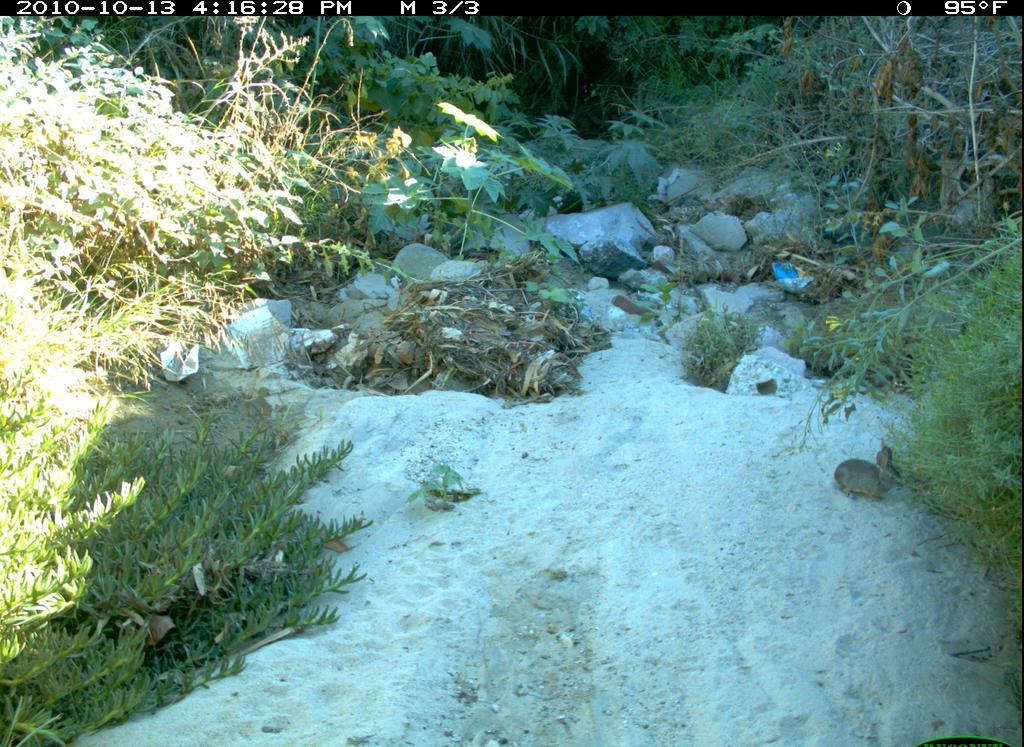rabbit: (821, 438, 911, 513)
